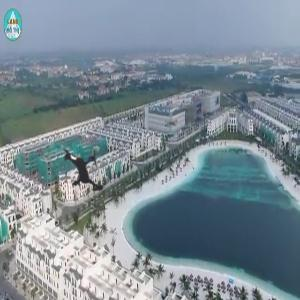drone: (42, 124, 132, 214)
